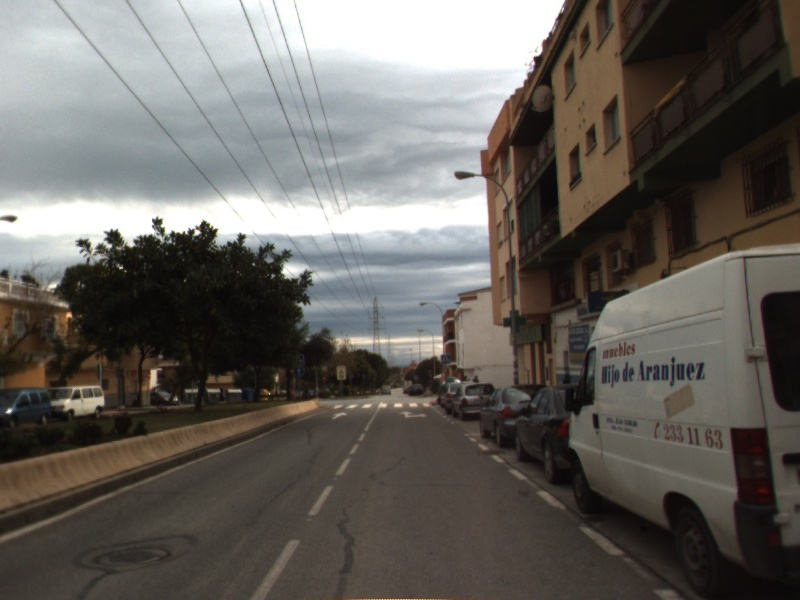STRAIGHT: (329, 410, 350, 421)
STRAIGHT_RIGHT: (397, 409, 429, 420)
